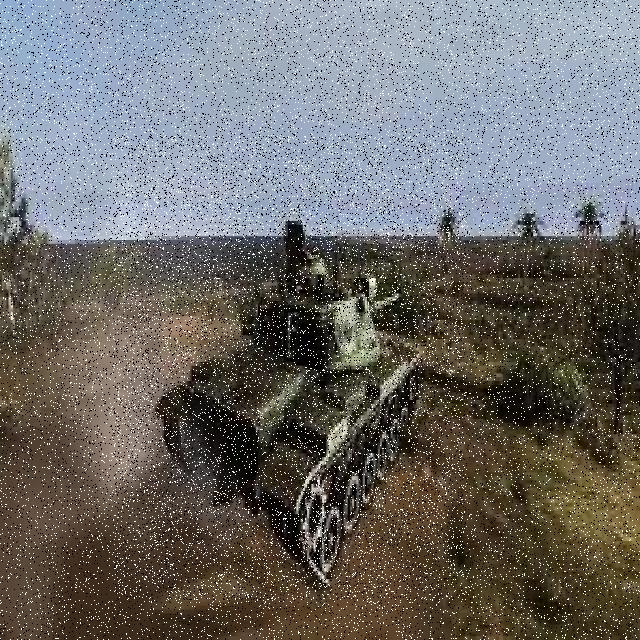MIL_MBT: (113, 136, 464, 600)
